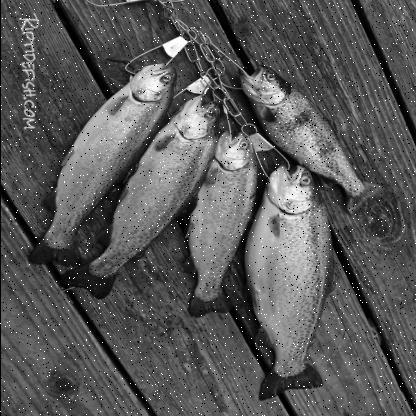fish: (61, 91, 217, 298), (28, 61, 180, 267), (246, 164, 338, 402), (240, 61, 378, 210), (182, 129, 258, 321)
